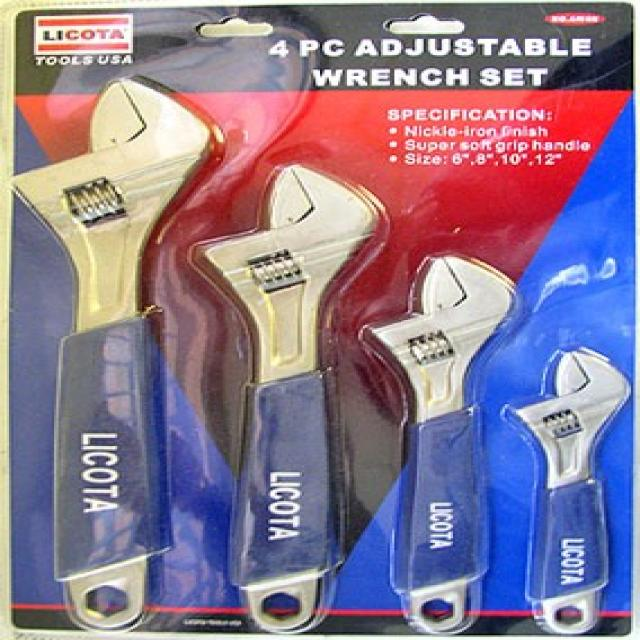wrench: (6, 66, 228, 640), (200, 152, 376, 614), (348, 244, 519, 640), (509, 339, 640, 640)
